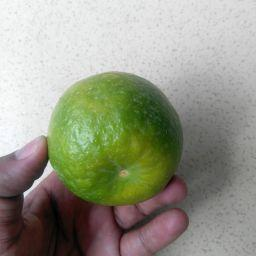Unripe: (49, 71, 186, 204)
